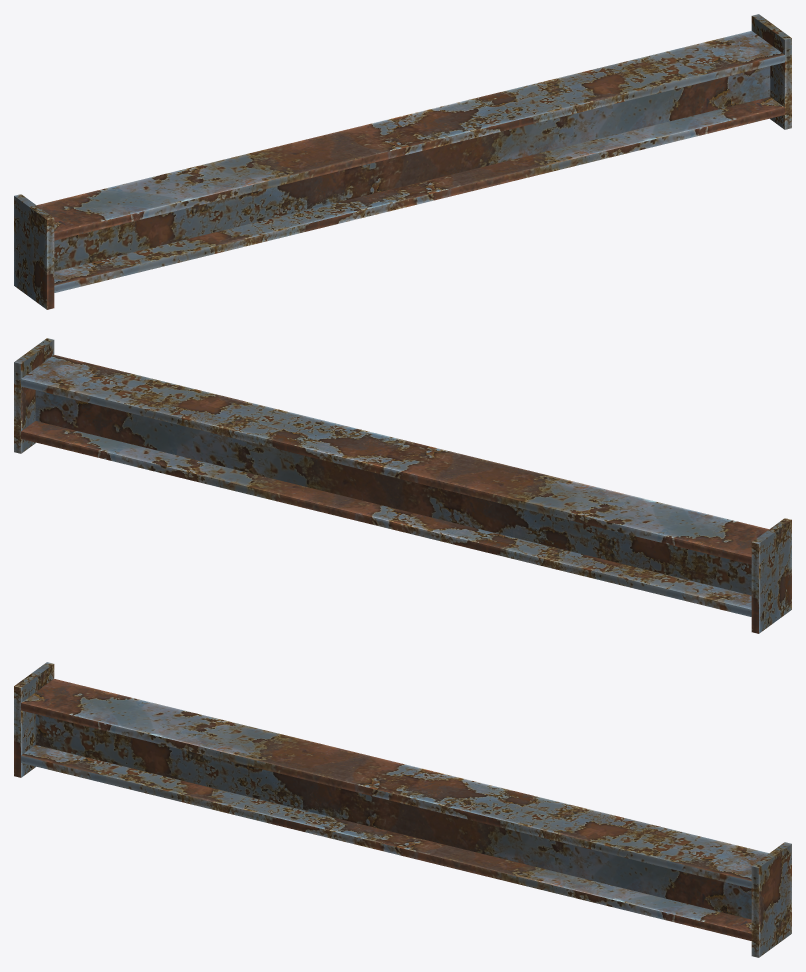
File: platform_beam_3m.fbx
The picture shows the model from 3 angles, top to bottom: view 1: azimuth 30°, elevation 25°; view 2: azimuth 150°, elevation 25°; view 3: azimuth 330°, elevation 25°; orthographic projection.
Visible parts, largest first — view 1: platform_beam_3m; view 2: platform_beam_3m; view 3: platform_beam_3m.
Part boxes in pixels (x1,y1,x2,y2): platform_beam_3m: (14, 14, 791, 309); platform_beam_3m: (14, 338, 791, 633); platform_beam_3m: (14, 662, 791, 957).
Size of the model in its own units: 260 by 30 by 20.
